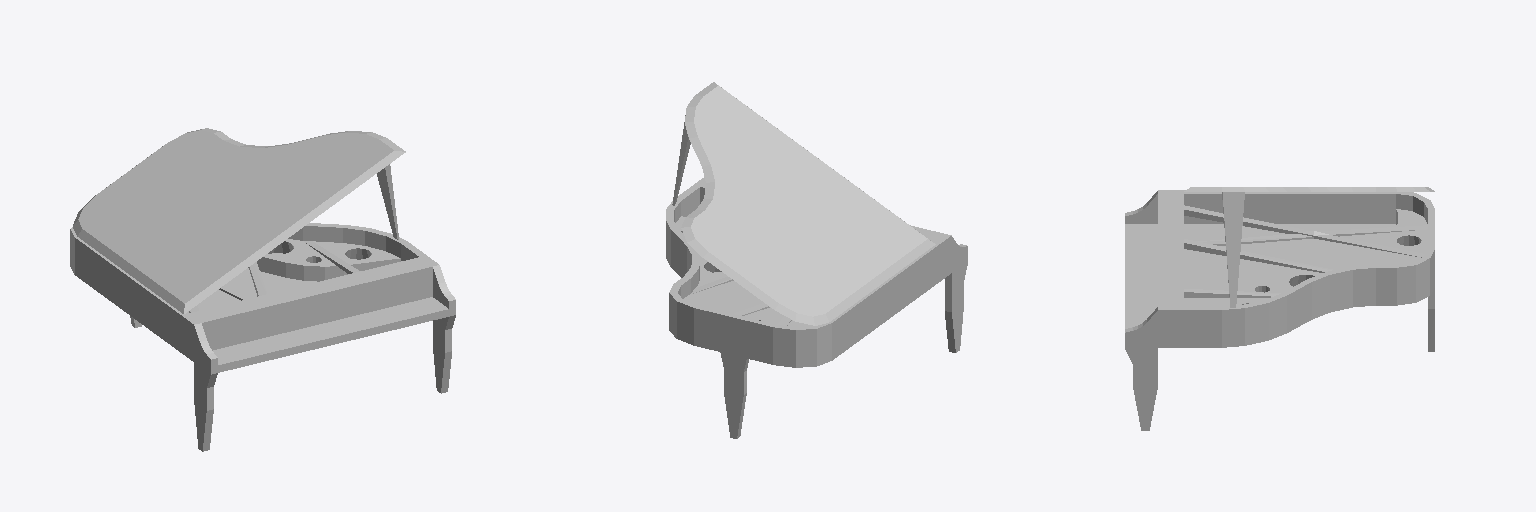
File: pianoWithInside.obj
3 renders of one model, left to right at view 1: azimuth 30°, elevation 25°; view 2: azimuth 150°, elevation 25°; view 3: azimuth 270°, elevation 25°, orthographic.
Parts seen in each view (by area): view 1: Plane.003; view 2: Plane.003; view 3: Plane.003.
Boxes of the visible parts, <box> form: Plane.003: <box>70,128,455,451</box>; Plane.003: <box>666,82,967,438</box>; Plane.003: <box>1125,187,1434,430</box>.
Bounding box in the file's own units: 8.5 × 7.61 × 9.32.